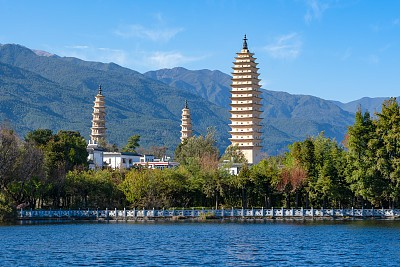ThreePagoda: (228, 34, 265, 164)
